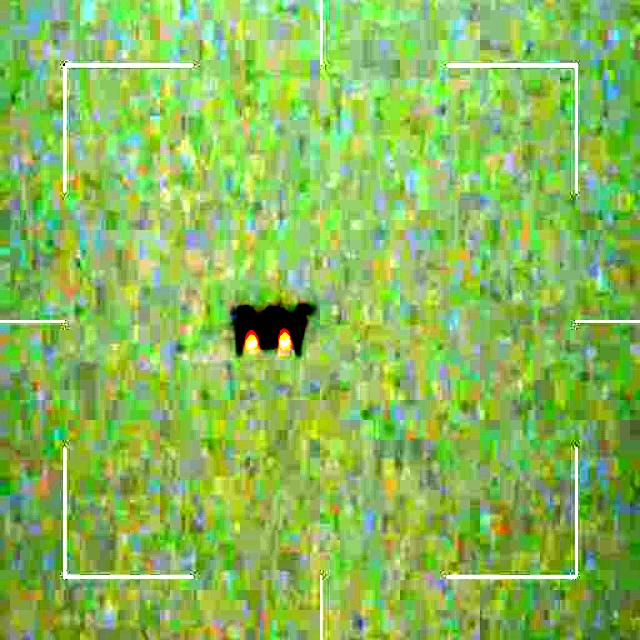bird: (229, 298, 316, 359)
